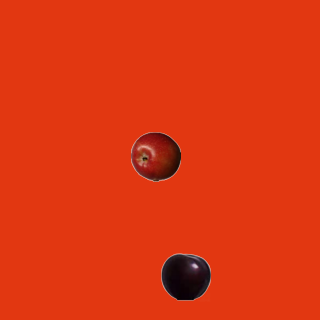Apple Braeburn: (130, 131, 180, 181)
Cherry Wax Black: (160, 251, 210, 301)
